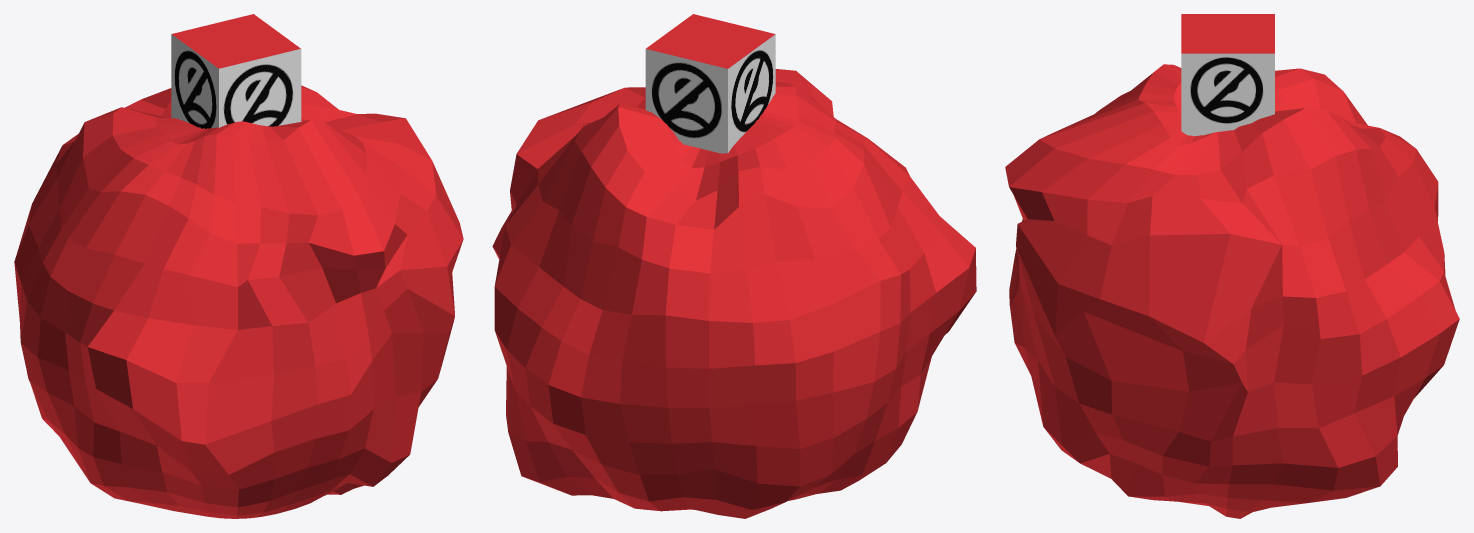
The model's file is redENTITY_I1.glb.
The picture shows the model from 3 angles, left to right: view 1: azimuth 30°, elevation 25°; view 2: azimuth 150°, elevation 25°; view 3: azimuth 270°, elevation 25°; orthographic projection.
Parts seen in each view (by area): view 1: entity_i1; view 2: entity_i1; view 3: entity_i1.
Part boxes in pixels (bbox=[...]): entity_i1: bbox=[14, 14, 463, 518]; entity_i1: bbox=[492, 14, 976, 518]; entity_i1: bbox=[1005, 14, 1459, 518].
Bounding box in the file's own units: 3.49 × 3.75 × 3.36.
2 materials, 1 textured.
